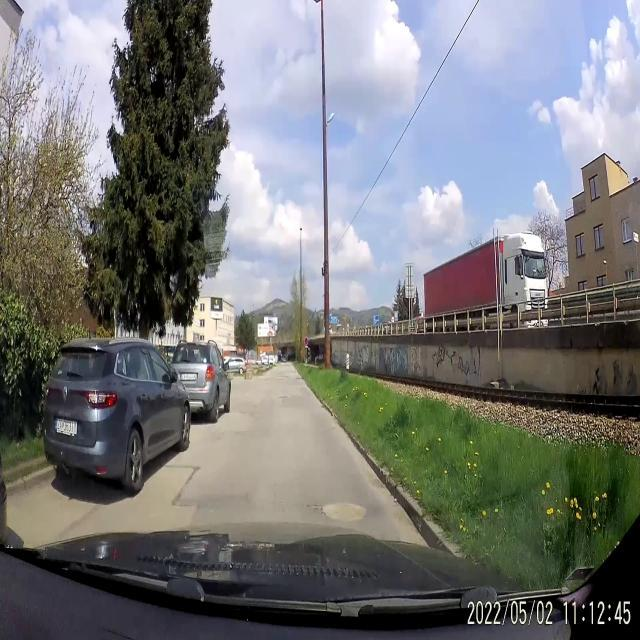Manhole: (314, 480, 368, 529)
